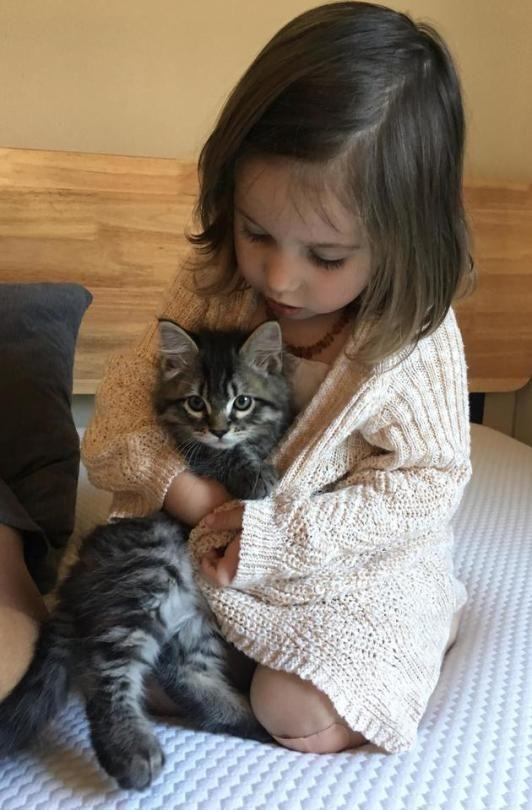kedo: (158, 320, 286, 450)
